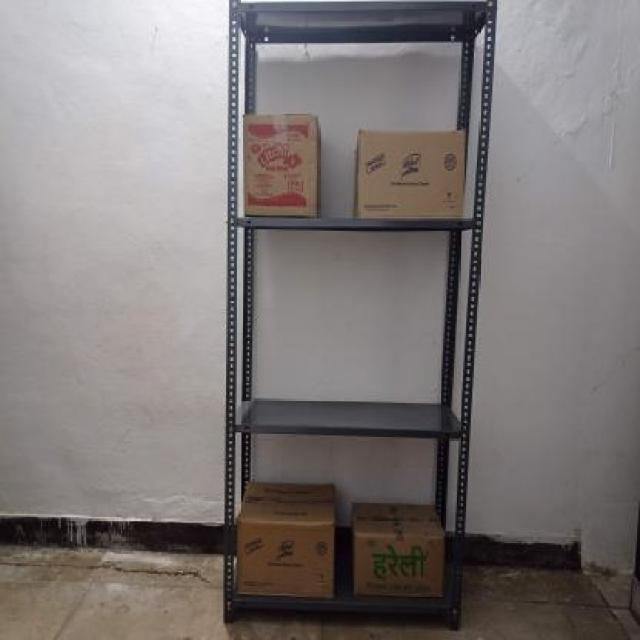box: (356, 130, 466, 219), (245, 114, 318, 217), (235, 522, 334, 596), (352, 534, 443, 592)
